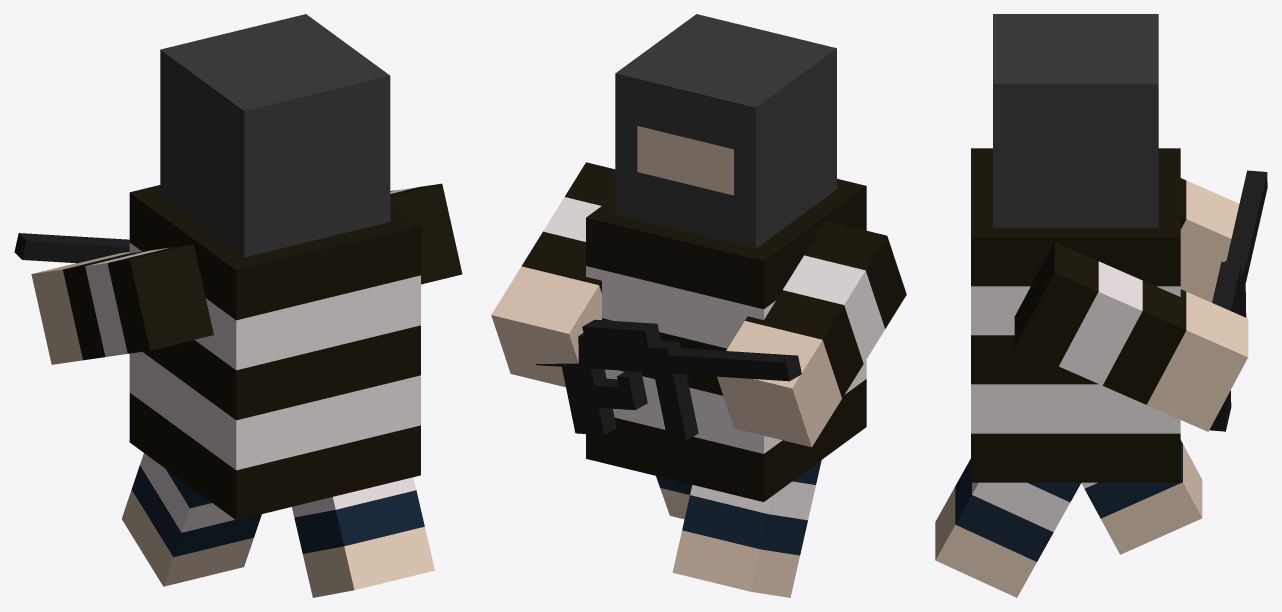
File: 角色_犯罪团队.fbx
3 renders of one model, left to right at view 1: azimuth 30°, elevation 25°; view 2: azimuth 150°, elevation 25°; view 3: azimuth 270°, elevation 25°, orthographic. The views are drawn at different scales.
Parts seen in each view (by area): view 1: 立方体.1462, 立方体.1463, 立方体.1461, 立方体.1460, 立方体.1464; view 2: 立方体.1463, 立方体.1462, 立方体.1460, 立方体.1464, 立方体.1461; view 3: 立方体.1462, 立方体.1463, 立方体.1460, 立方体.1461, 立方体.1464.
Part boxes in pixels (x1,y1,x2,y2): 立方体.1462: (129,185,420,520); 立方体.1463: (160,14,390,257); 立方体.1461: (122,453,434,597); 立方体.1460: (31,183,462,364); 立方体.1464: (14,233,129,263); 立方体.1463: (615,14,836,248); 立方体.1462: (586,178,866,501); 立方体.1460: (491,162,906,447); 立方体.1464: (536,319,801,440); 立方体.1461: (656,460,821,597); 立方体.1462: (971,148,1180,482); 立方体.1463: (993,14,1158,227); 立方体.1460: (1014,178,1248,431); 立方体.1461: (935,440,1202,597); 立方体.1464: (1209,170,1267,431).
Bounding box in the file's own units: 442 × 680 × 401.
